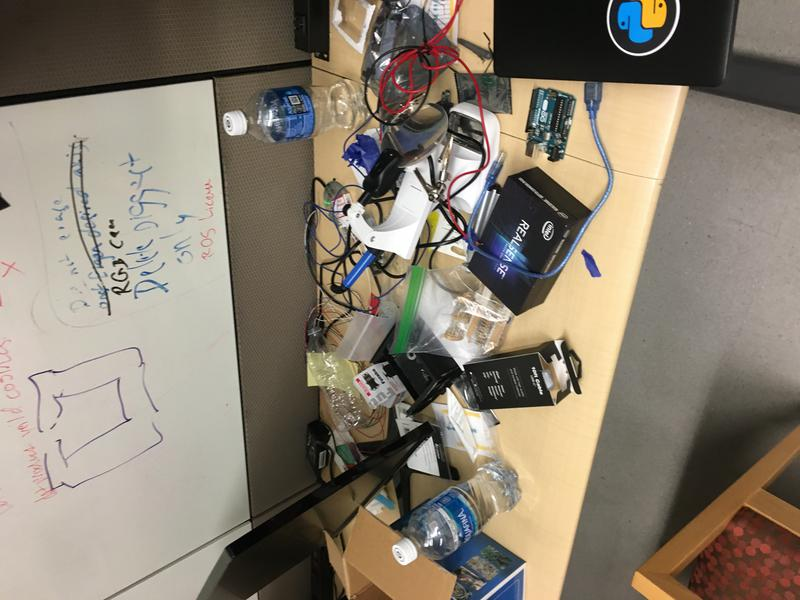bottle: (390, 459, 523, 569), (222, 80, 373, 146)
